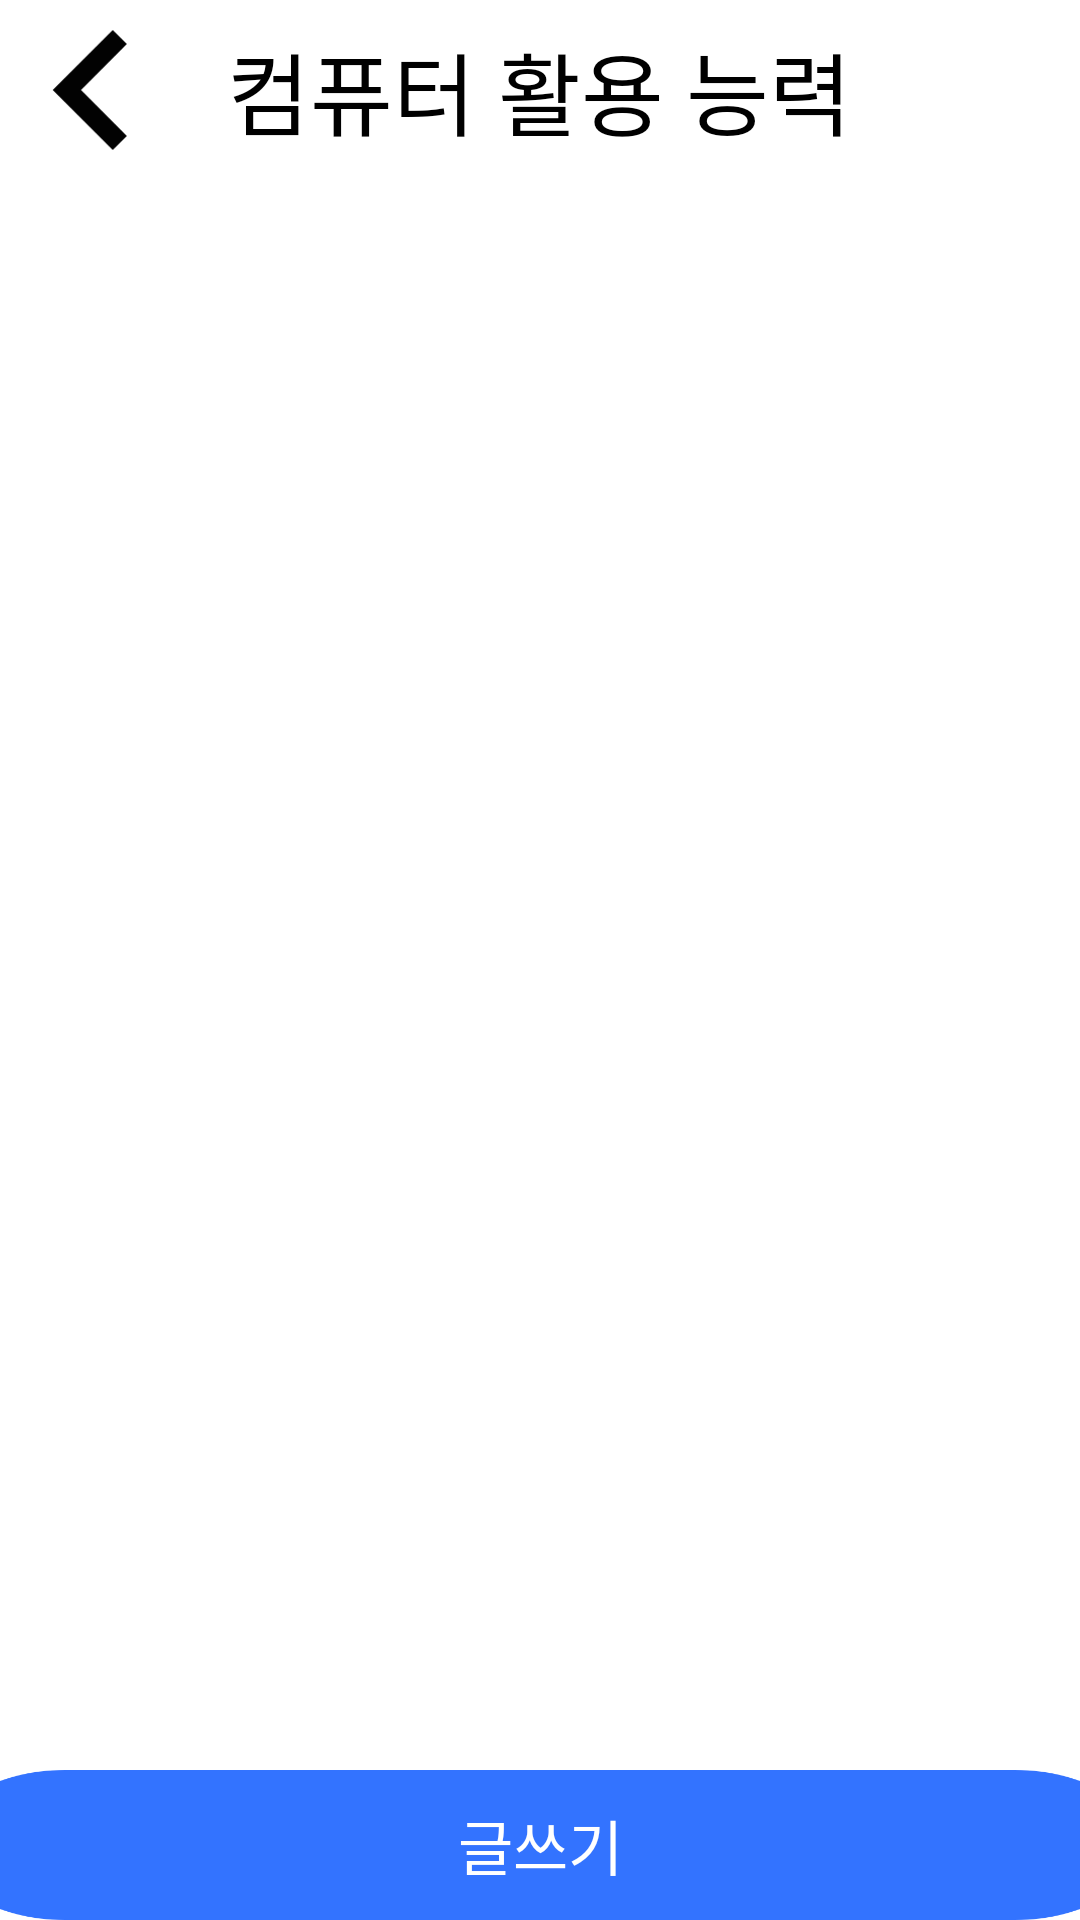

Named icons in this screenshot (1080×1920) and their bounding boxes, (x1, y1, x2, y2):
back: (53, 30, 127, 150)
